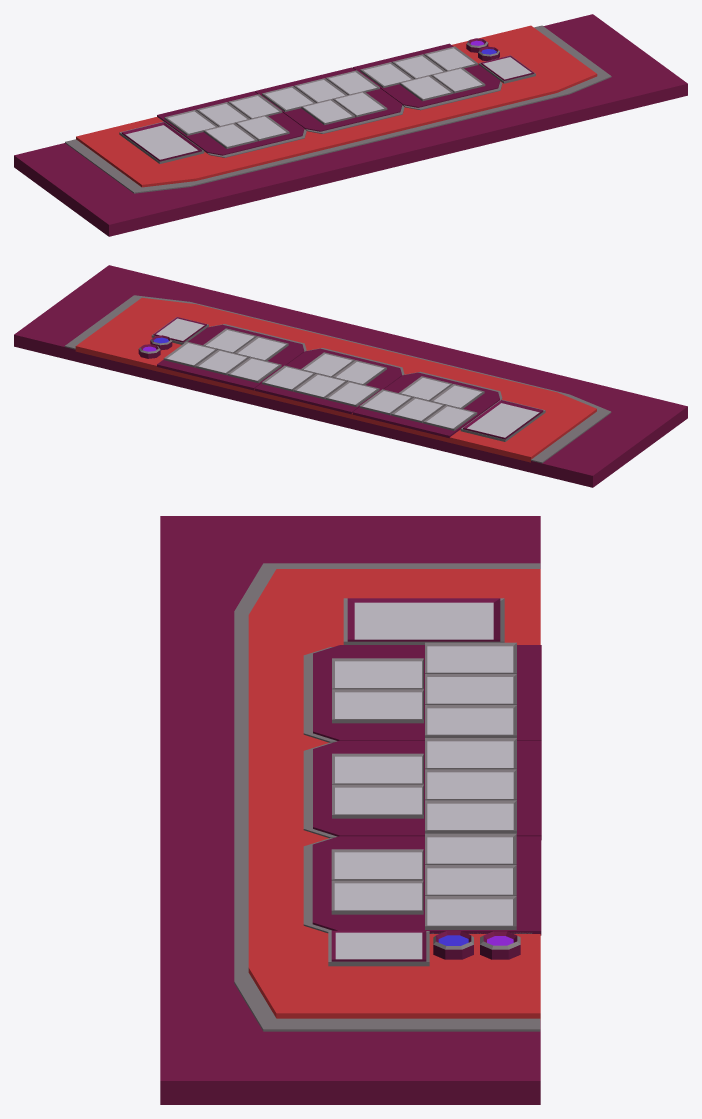
The model's file is board2.glb.
3 views of the same model, one above another, from view 1: azimuth 30°, elevation 25°; view 2: azimuth 150°, elevation 25°; view 3: azimuth 270°, elevation 25° (orthographic). The views are drawn at different scales.
Parts seen in each view (by area): view 1: base, Cube.014, Cube.021, Cube.013, Cube.020, Cube, Cube.007, Cube.009, Cube.016, Cube.004, Cube.005, Cube.008 (+15 smaller); view 2: base, Cube.014, Cube.021, Cube.013, Cube.020, Cube, Cube.007, Cube.010, Cube.003, Cube.017, Cube.018, Cube.001 (+12 smaller); view 3: base, Cube.014, Cube.021, Cube.020, Cube, Cube.013, Cube.007, Cube.015, Cube.005, Cube.008, Cube.002, Cube.018 (+17 smaller).
Part boxes in pixels (x1,y1,x2,y2): base: [14, 14, 687, 236]; Cube.014: [76, 25, 597, 187]; Cube.021: [65, 25, 611, 193]; Cube.013: [157, 91, 304, 155]; Cube.020: [352, 43, 500, 107]; Cube: [254, 67, 402, 131]; Cube.007: [121, 122, 201, 161]; Cube.009: [203, 123, 257, 148]; Cube.016: [399, 75, 453, 101]; Cube.004: [301, 99, 355, 124]; Cube.005: [333, 91, 387, 117]; Cube.008: [235, 115, 289, 141]; base: [14, 265, 687, 487]; Cube.014: [75, 297, 596, 462]; Cube.021: [64, 295, 611, 463]; Cube.013: [352, 372, 499, 438]; Cube.020: [157, 324, 304, 390]; Cube: [254, 348, 402, 414]; Cube.007: [463, 400, 543, 439]; Cube.010: [423, 405, 477, 430]; Cube.003: [325, 381, 379, 406]; Cube.017: [227, 357, 281, 383]; Cube.018: [163, 341, 217, 367]; Cube.001: [293, 373, 347, 399]; base: [160, 516, 540, 1104]; Cube.014: [248, 569, 540, 1020]; Cube.021: [234, 563, 540, 1031]; Cube.020: [312, 836, 541, 935]; Cube: [313, 740, 541, 839]; Cube.013: [313, 645, 541, 740]; Cube.007: [347, 598, 500, 641]; Cube.015: [331, 880, 423, 914]; Cube.005: [332, 784, 423, 818]; Cube.008: [332, 689, 423, 723]; Cube.002: [425, 800, 516, 833]; Cube.018: [425, 896, 516, 929].
Bounding box in the file's own units: 6.01 × 0.2179 × 1.71.
